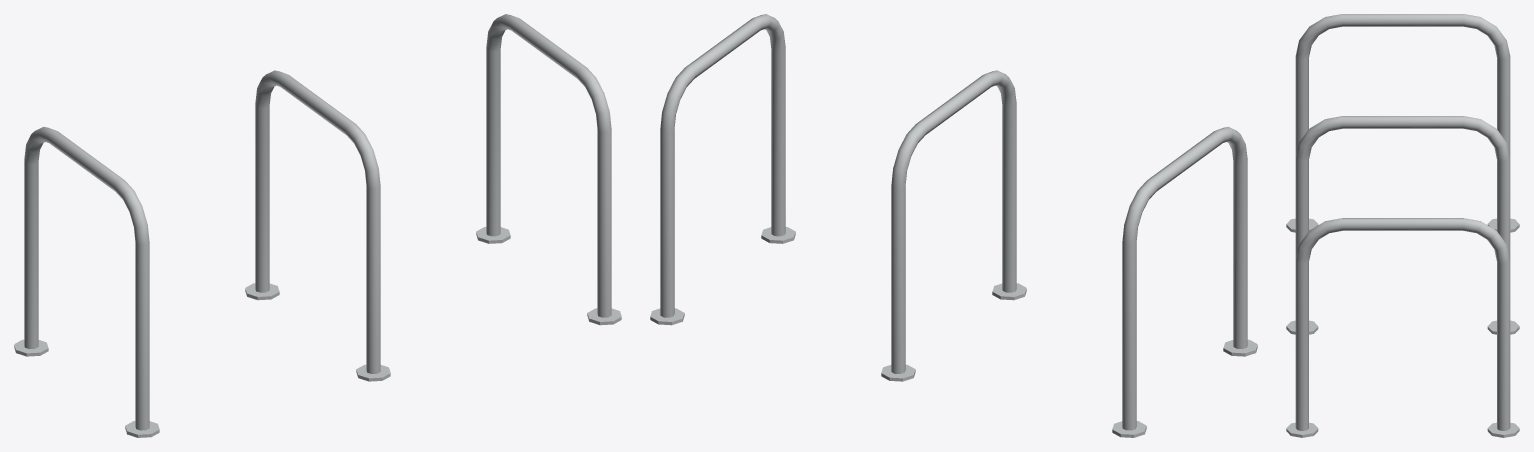
File: bike_rack.glb
The picture shows the model from 3 angles, left to right: view 1: azimuth 30°, elevation 25°; view 2: azimuth 150°, elevation 25°; view 3: azimuth 270°, elevation 25°; orthographic projection. The views are drawn at different scales.
Visible parts, largest first — view 1: bike_rack_body; view 2: bike_rack_body; view 3: bike_rack_body.
Part boxes in pixels (box(x1,y1,x2,y2)): bike_rack_body: box(14, 14, 621, 437); bike_rack_body: box(650, 14, 1257, 437); bike_rack_body: box(1286, 14, 1519, 437).
Size of the model in its own units: 0.096 by 0.0437 by 0.0435.
1 material, 1 textured.
